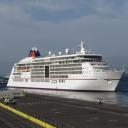cruises: (7, 42, 127, 94)
